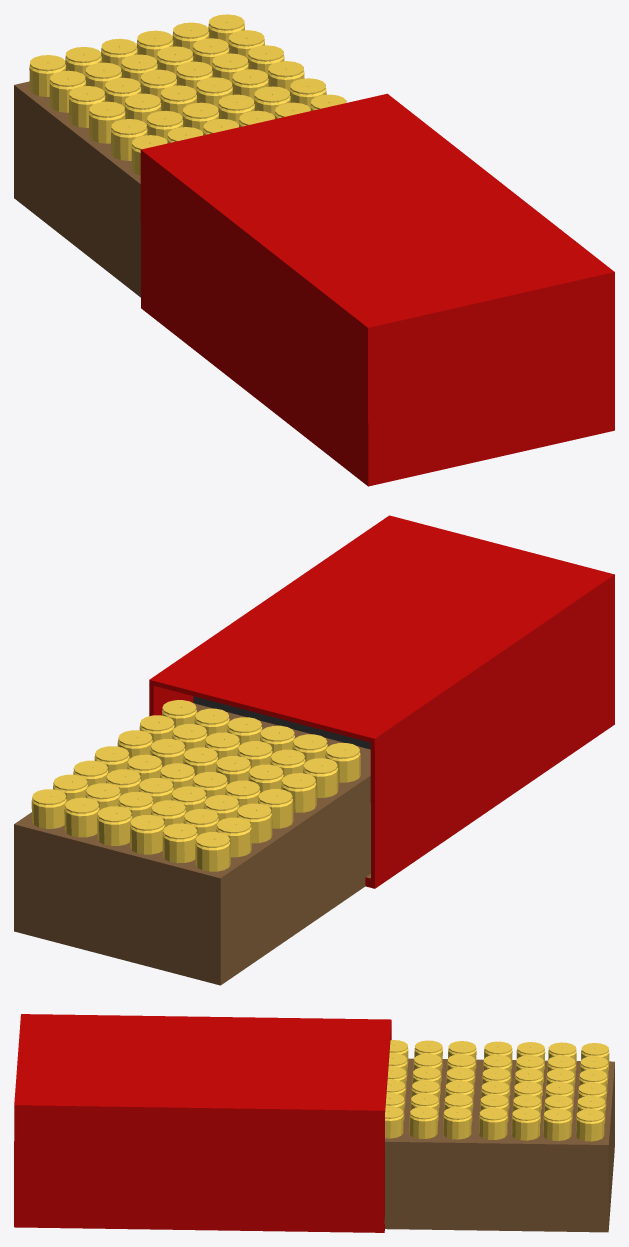
File: 9mmbox.glb
The picture shows the model from 3 angles, top to bottom: view 1: azimuth 30°, elevation 25°; view 2: azimuth 150°, elevation 25°; view 3: azimuth 270°, elevation 25°; orthographic projection. The views are drawn at different scales.
Visible parts, largest first — view 1: barrel.001; view 2: barrel.001; view 3: barrel.001.
Part boxes in pixels (left/top/right/bottom): barrel.001: left=14, top=14, right=614, bottom=486; barrel.001: left=14, top=515, right=614, bottom=985; barrel.001: left=14, top=1014, right=614, bottom=1232.
Bounding box in the file's own units: 0.0781 × 0.0467 × 0.2063.
